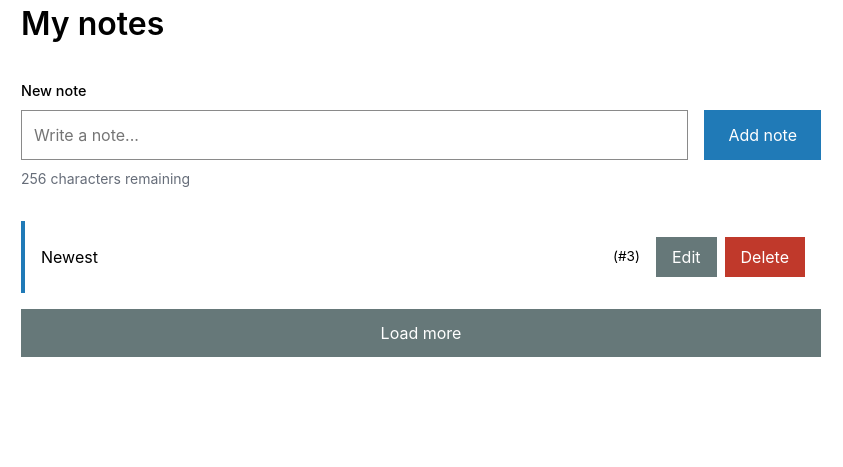
Test case: NotesPage › Load more › keeps focus on itself while more pages remain
Click the button "Load more".
click(421, 333)  # box [21, 309, 821, 357]
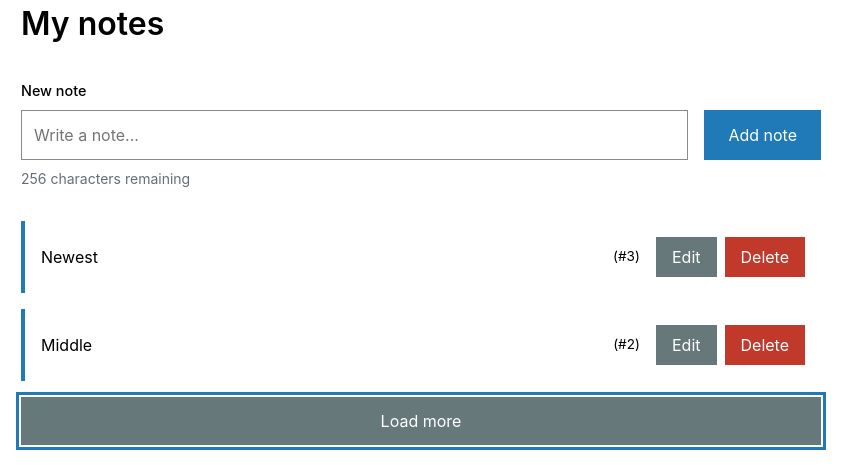
Result: the text "Middle" is shown at [41, 335, 92, 355]
